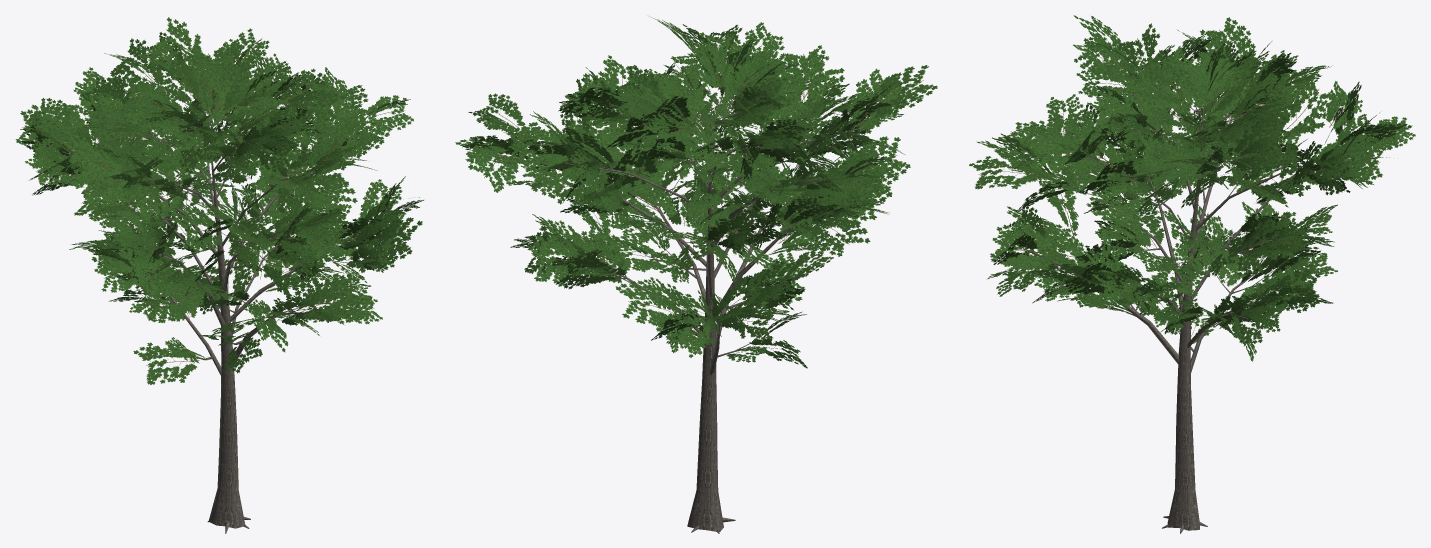
File: SugarMaple.fbx
3 renders of one model, left to right at view 1: azimuth 30°, elevation 25°; view 2: azimuth 150°, elevation 25°; view 3: azimuth 270°, elevation 25°, orthographic. The views are drawn at different scales.
Visible parts, largest first — view 1: Foliage, Bark; view 2: Foliage, Bark; view 3: Foliage, Bark.
Part boxes in pixels (left/top/right/bottom): Foliage: left=15, top=17, right=423, bottom=384; Bark: left=61, top=74, right=381, bottom=533; Foliage: left=455, top=17, right=937, bottom=368; Bark: left=531, top=84, right=862, bottom=533; Foliage: left=969, top=15, right=1415, bottom=361; Bark: left=1023, top=69, right=1353, bottom=533.
Bounding box in the file's own units: 22.8 × 24.2 × 21.99.
